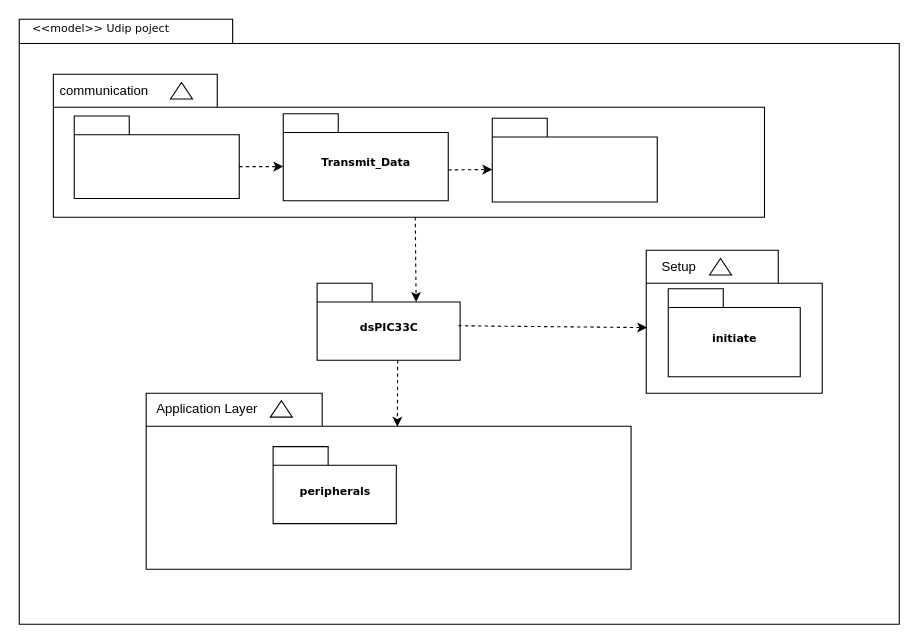
Image size: 919x644. Some labels were removed from this diagram. Each missing label, with the box of its shape:
Message: (491, 117, 657, 202)
Receive_Data: (73, 115, 239, 199)
